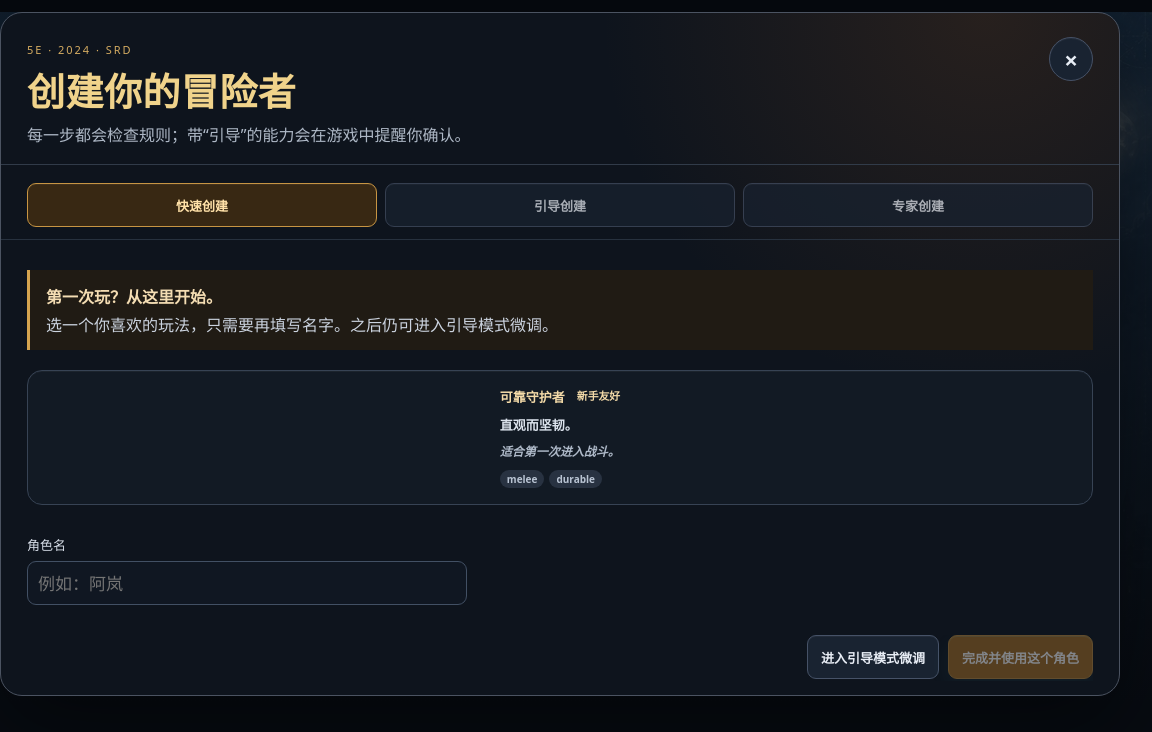
Scenario: D&D 2024 ability page: point buy vs background bonuses › Test A: point buy always shows all six abilities (CHA not hidden by Sage)
Click the button "可靠守护者 新手友好 直观而坚韧。 适合第一次进入战斗。 melee durable" at (532, 397), box x1=27 y1=370 x2=1093 y2=505
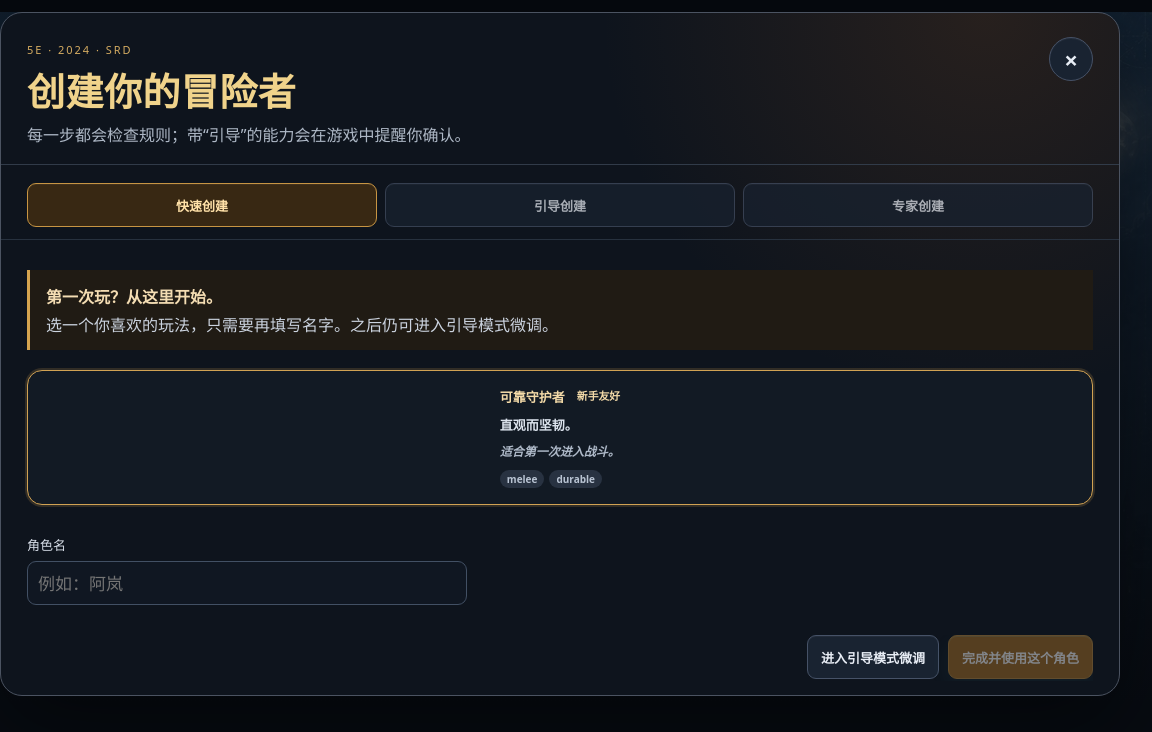
Type "阿岚" into the field labelled "角色名" at (247, 583), box x1=27 y1=561 x2=467 y2=605
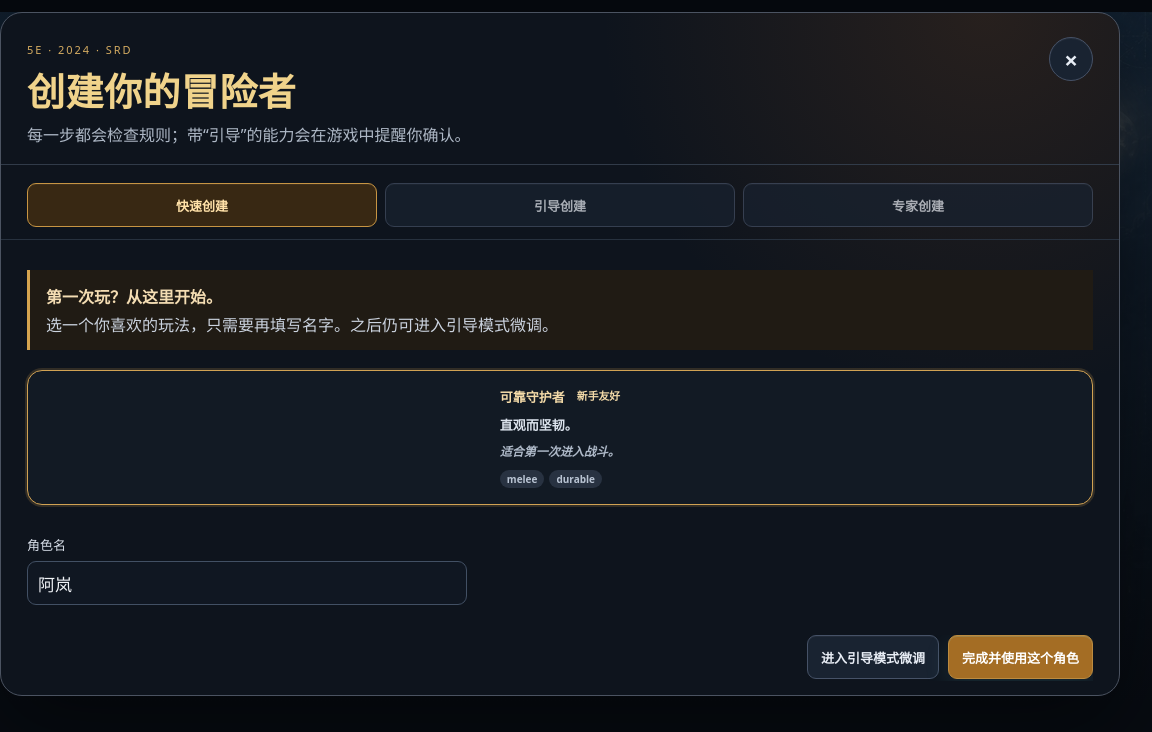
Click the tab "引导创建" at (560, 205), box x1=385 y1=183 x2=735 y2=227
(page scrolled)
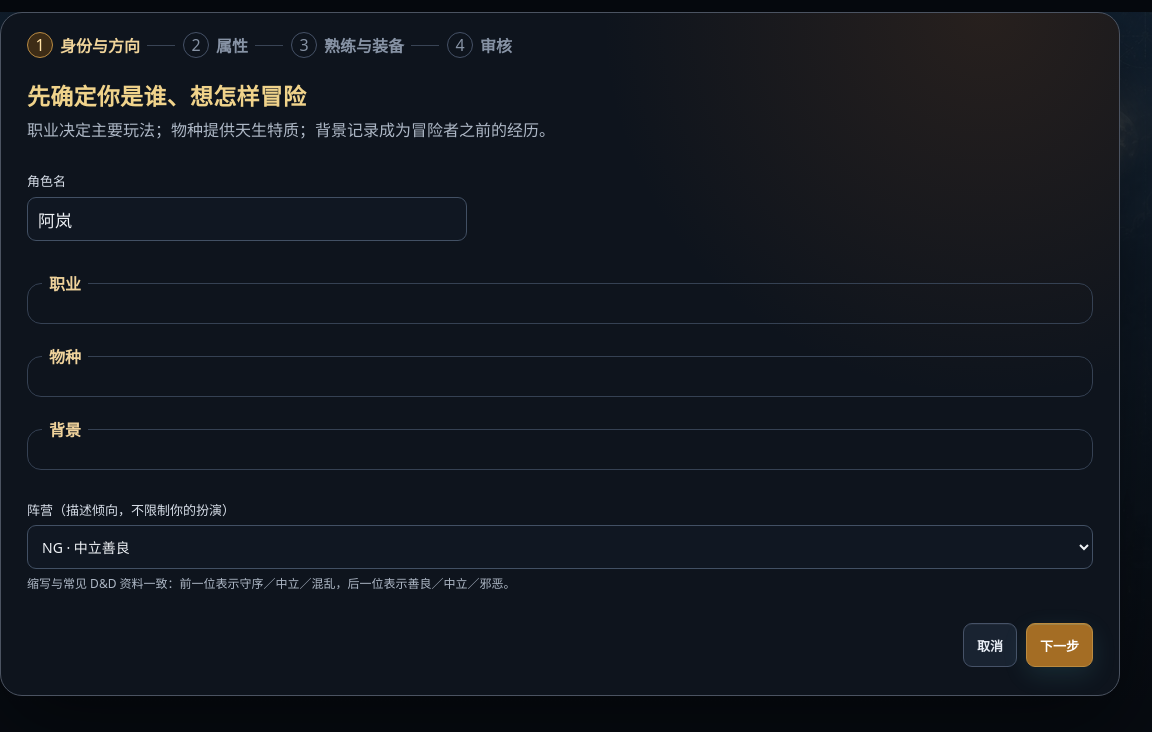
Click the button "下一步" at (1060, 645), box x1=1026 y1=623 x2=1093 y2=667
(page scrolled)
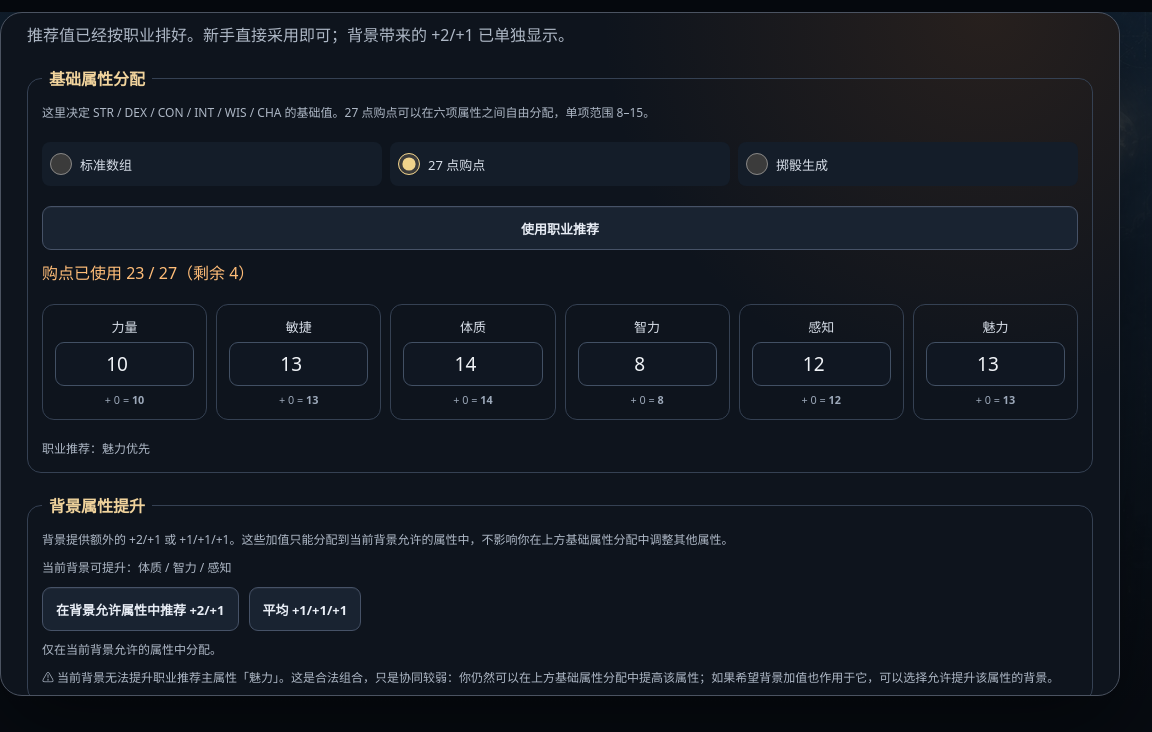
Check: the panel shows "力量", box x1=112 y1=318 x2=138 y2=336
Check: the panel shows "敏捷", box x1=286 y1=318 x2=312 y2=336
Check: the panel shows "体质", box x1=460 y1=318 x2=486 y2=336
